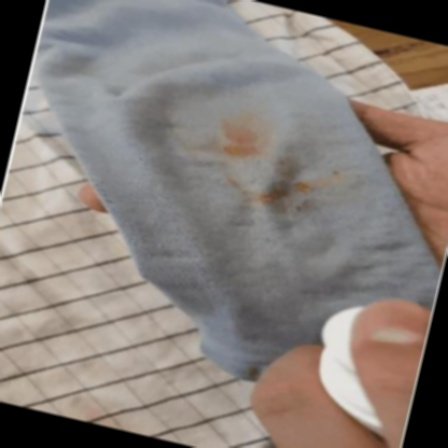kimchi: (215, 110, 267, 172), (289, 157, 349, 202), (261, 174, 298, 210), (291, 192, 321, 222), (219, 169, 247, 194)
